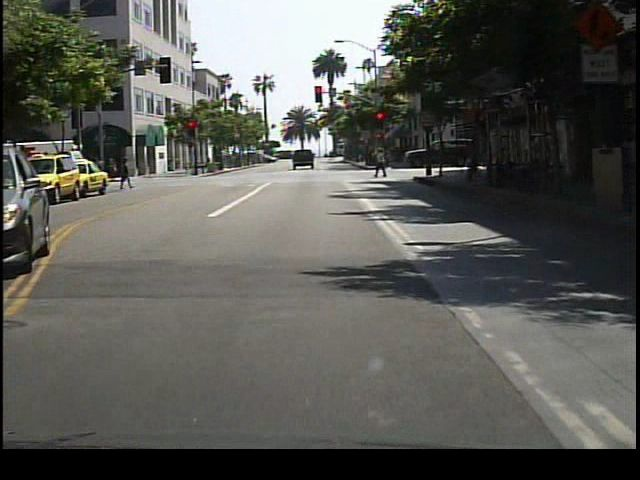person: (463, 138, 482, 181), (374, 147, 392, 180), (118, 157, 134, 192)
